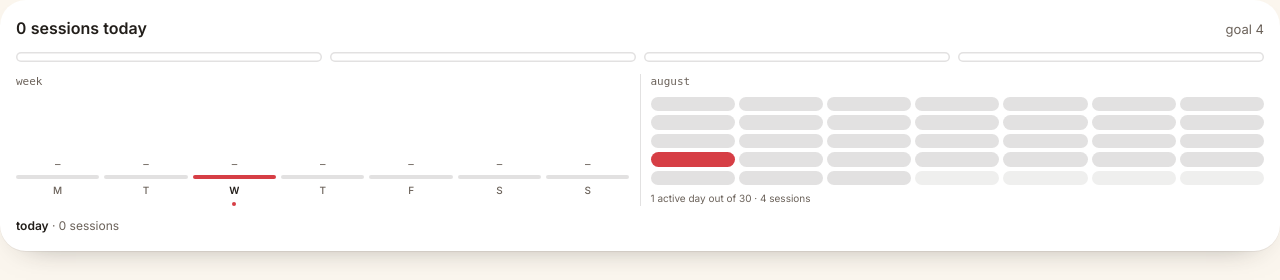
Test: picking a day › reads a day picked out of the month grid
This screenshot has width=1280, height=280.
Click the button named "10 August · 4 sessions": (693, 159) [650,152,735,166]
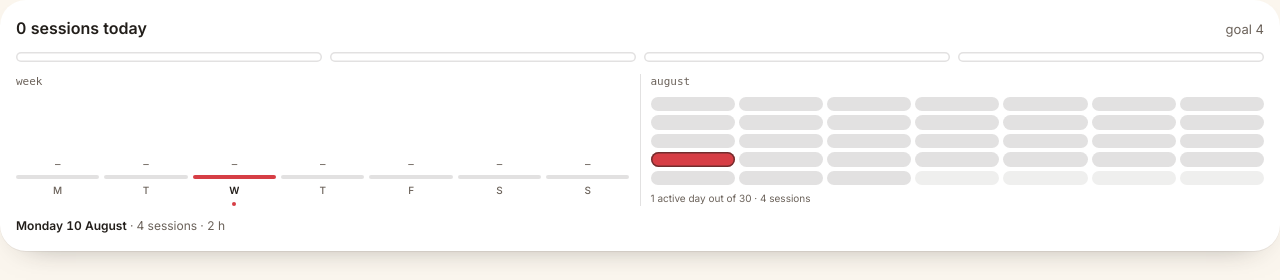
Check: the message reads "Monday 10 August · 4 sessions · 2 h", box [16,218,225,233]
